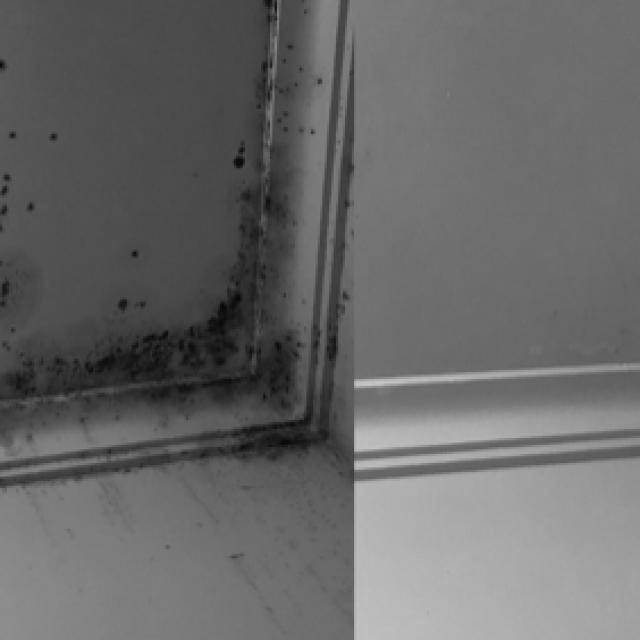stain marks: (224, 0, 320, 447), (0, 57, 136, 293), (0, 295, 227, 431)
